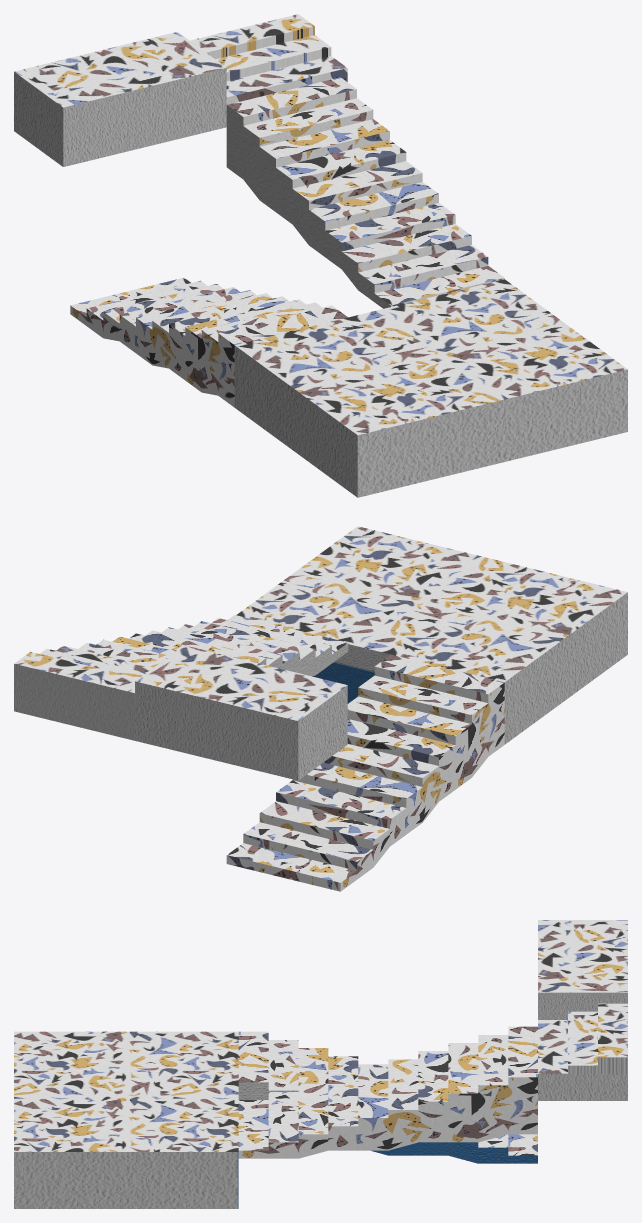
File: stairs_right.fbx
3 views of the same model, one above another, from view 1: azimuth 30°, elevation 25°; view 2: azimuth 150°, elevation 25°; view 3: azimuth 270°, elevation 25° (orthographic). The views are drawn at different scales.
Visible parts, largest first — view 1: stairs_left.001; view 2: stairs_left.001; view 3: stairs_left.001.
Part boxes in pixels (left/top/right/bottom): stairs_left.001: left=14, top=14, right=627, bottom=497; stairs_left.001: left=14, top=526, right=627, bottom=891; stairs_left.001: left=14, top=920, right=627, bottom=1208.
Size of the model in its own units: 1000 by 700 by 2050.
